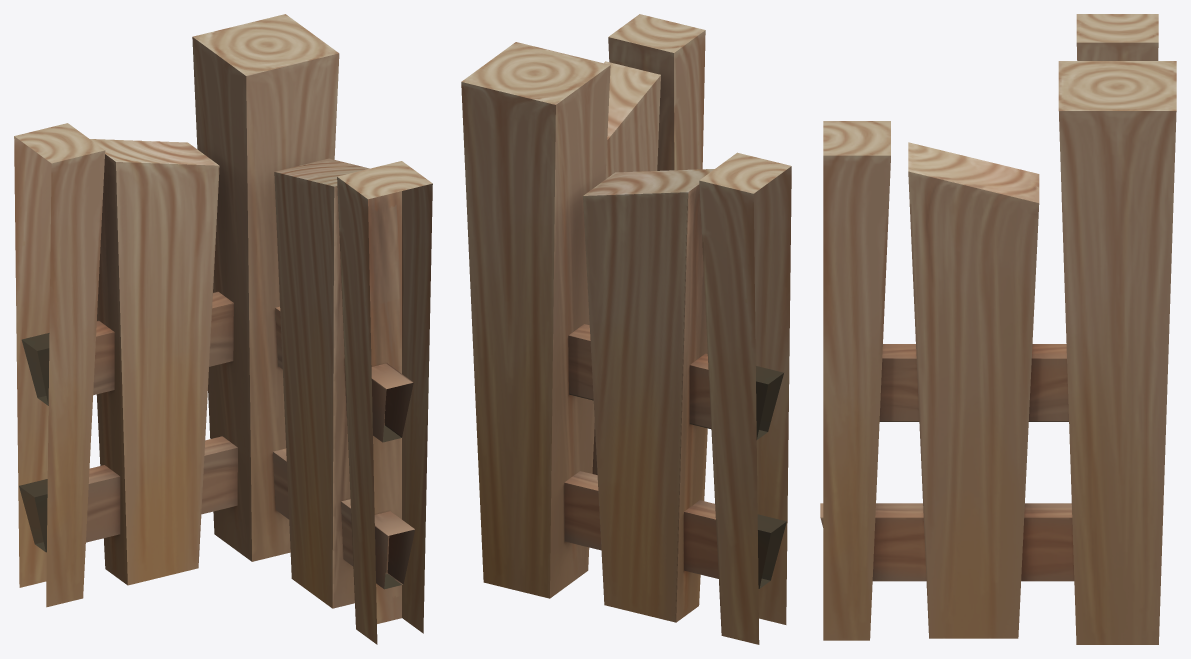
Rendered from fence2_corner2.obj.
3 views of the same model, side by side, from view 1: azimuth 30°, elevation 25°; view 2: azimuth 150°, elevation 25°; view 3: azimuth 270°, elevation 25° (orthographic). The views are drawn at different scales.
Parts seen in each view (by area): view 1: fence2_corner2; view 2: fence2_corner2; view 3: fence2_corner2.
Part boxes in pixels (x1=…): fence2_corner2: x1=14, y1=14, x2=432, y2=644; fence2_corner2: x1=461, y1=14, x2=791, y2=644; fence2_corner2: x1=820, y1=14, x2=1176, y2=644.
Size of the model in its own units: 30.66 by 50.83 by 30.25.
